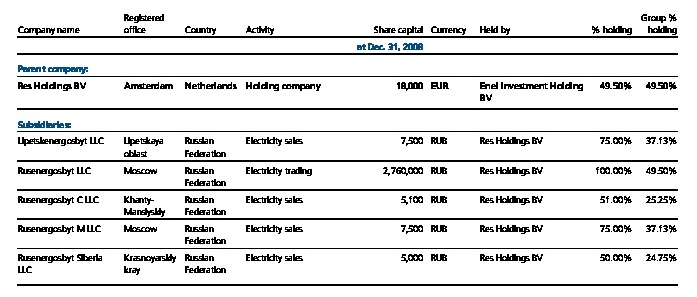table: (0, 0, 697, 297)
